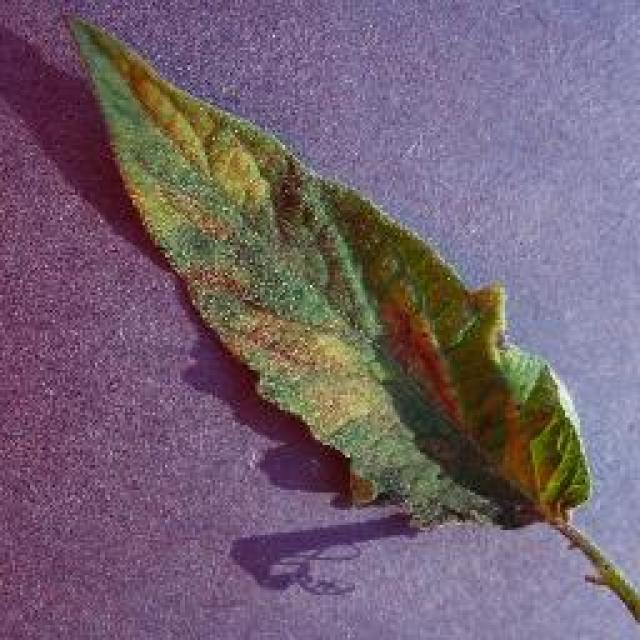Tomato mold leaf: (69, 21, 591, 556)
